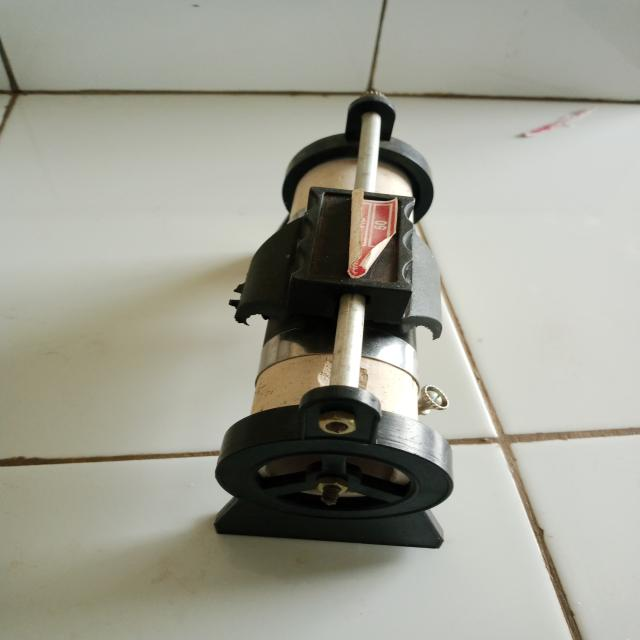Rheostat: (191, 82, 478, 565)
